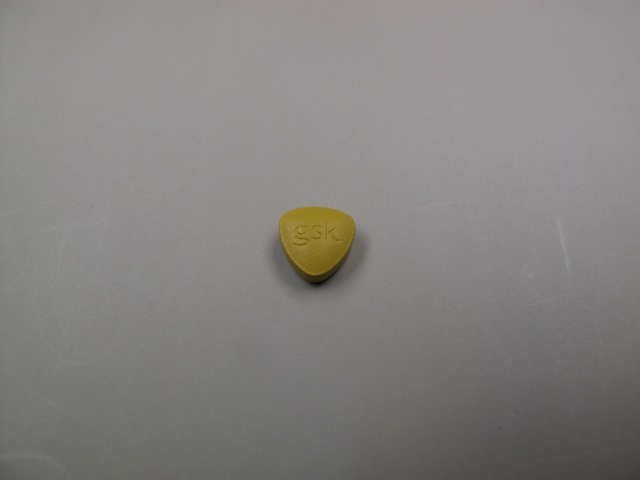K: (323, 219, 345, 245)
S: (312, 223, 324, 242)
g: (291, 222, 311, 249)
